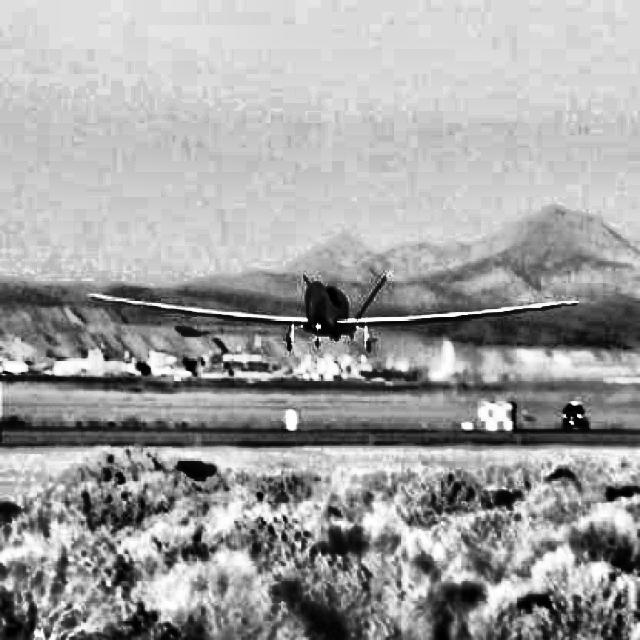RQ4: (85, 274, 578, 352)
